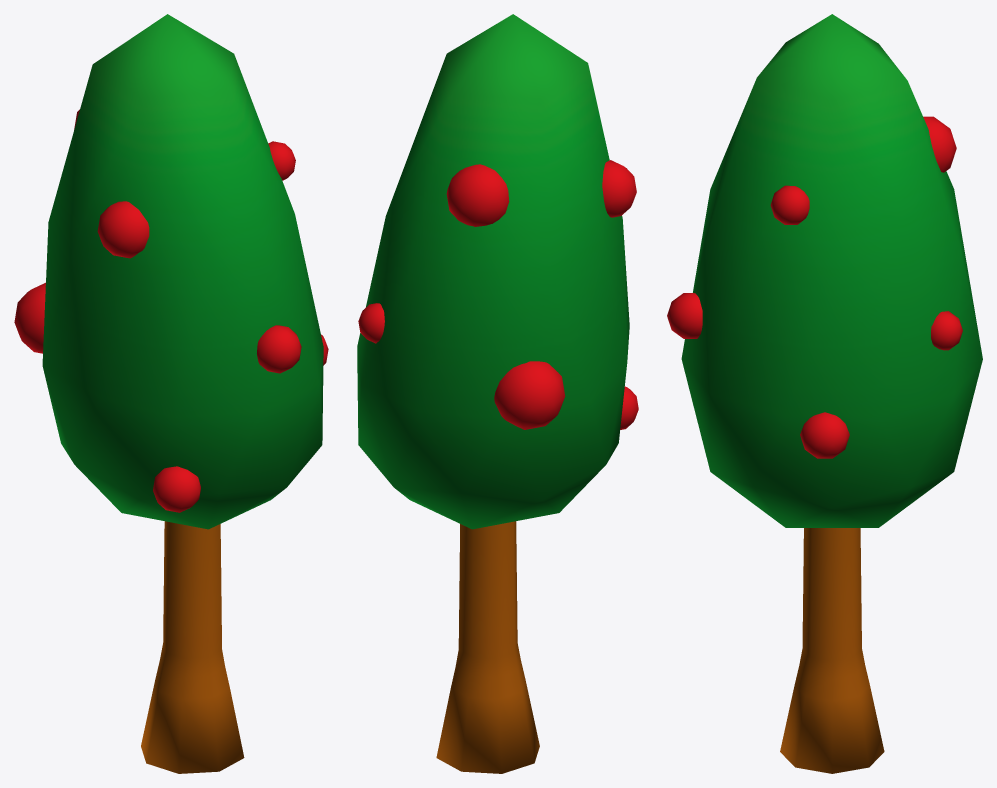
The model's file is Tree_05.3.fbx.
The picture shows the model from 3 angles, left to right: view 1: azimuth 30°, elevation 25°; view 2: azimuth 150°, elevation 25°; view 3: azimuth 270°, elevation 25°; orthographic projection. The views are drawn at different scales.
Parts seen in each view (by area): view 1: Tree_05.3; view 2: Tree_05.3; view 3: Tree_05.3.
Boxes of the visible parts, x1=… form: Tree_05.3: x1=14, y1=14, x2=328, y2=773; Tree_05.3: x1=357, y1=14, x2=638, y2=773; Tree_05.3: x1=667, y1=14, x2=982, y2=773.
Size of the model in its own units: 128 by 142 by 359.
